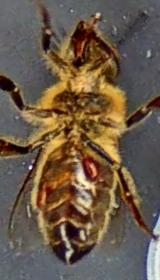varroa_mite: (74, 147, 108, 188), (22, 178, 52, 214)
